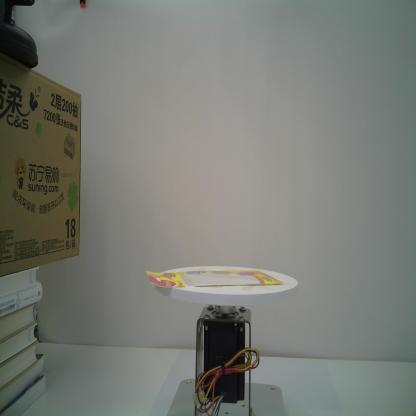Stationery: (144, 268, 285, 290)
